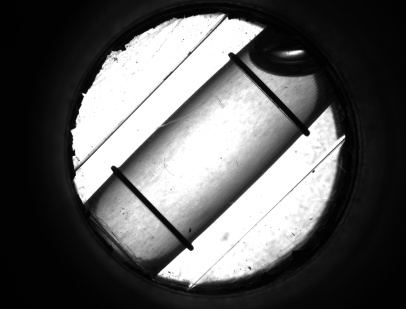line: (121, 184, 183, 231), (250, 85, 302, 115)
